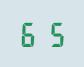five: (42, 20, 64, 47)
six: (19, 20, 41, 47)
